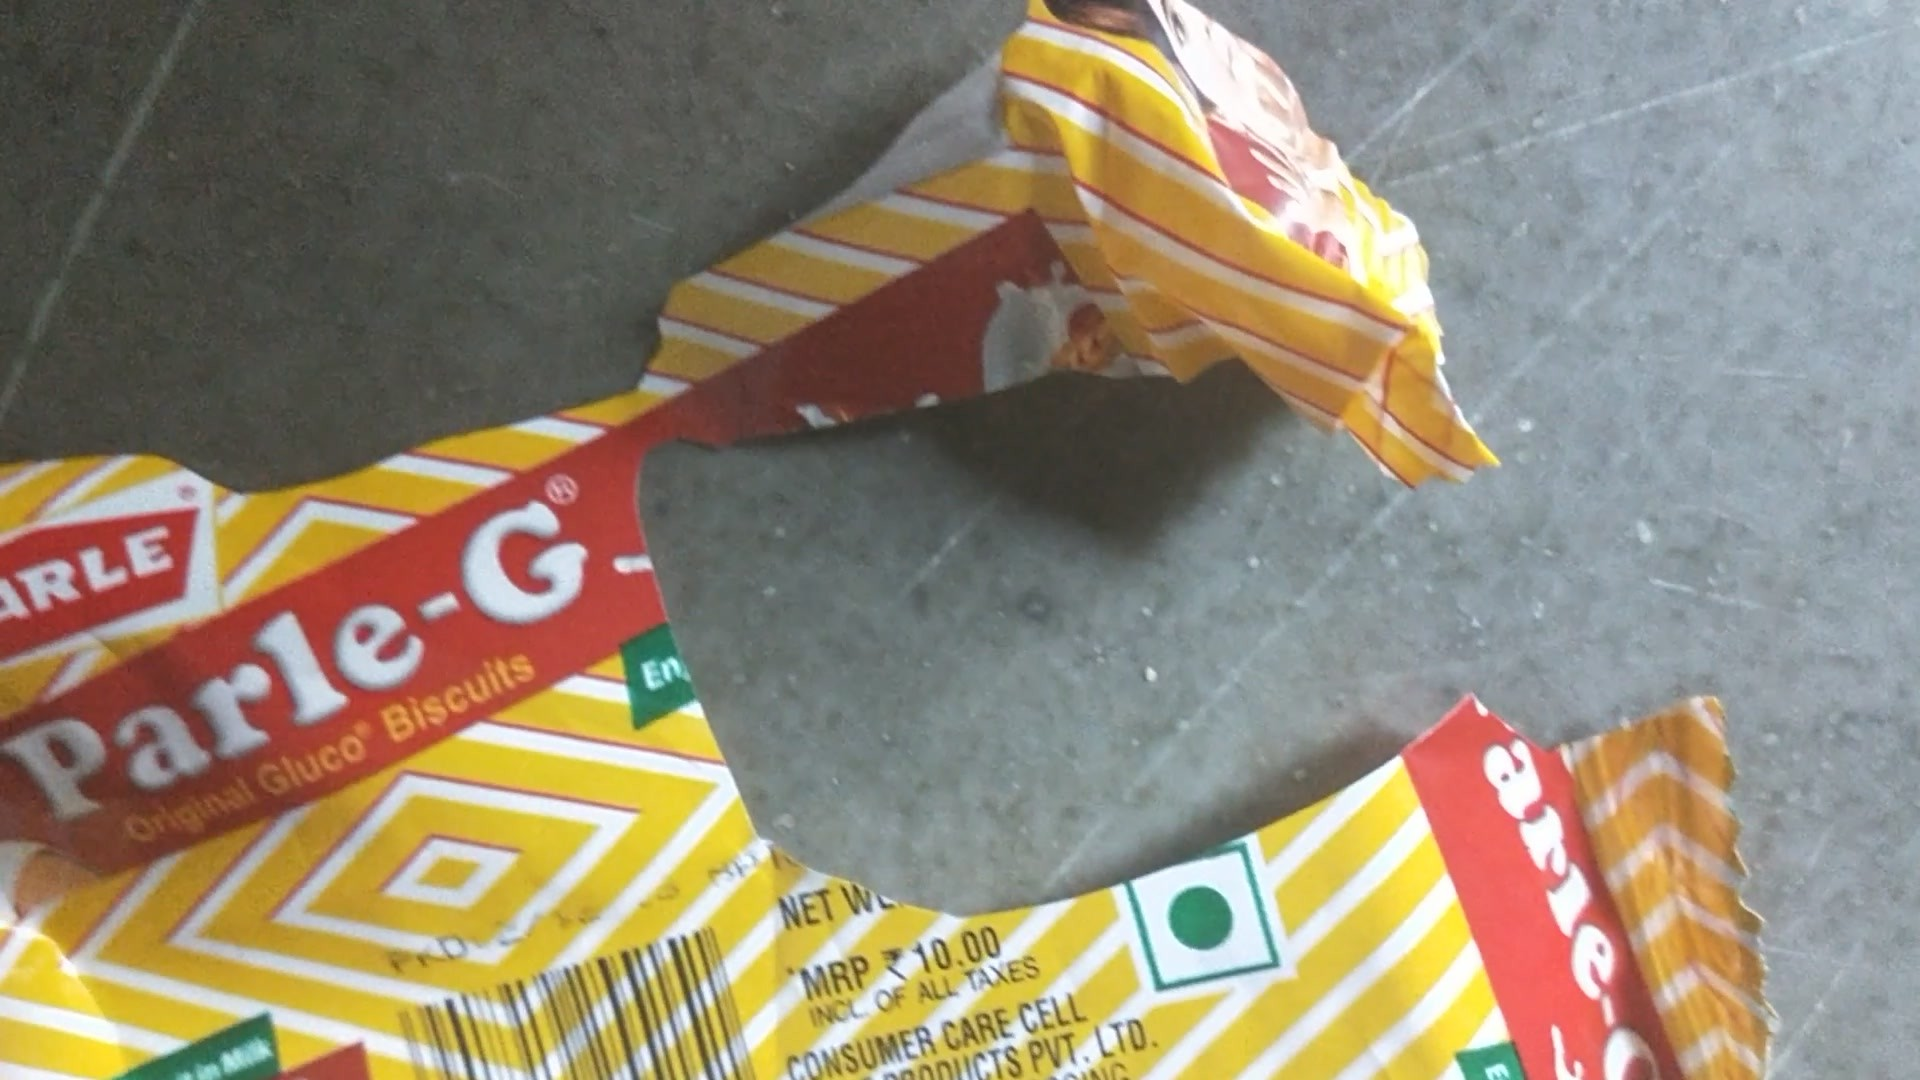parle-g-b: (3, 477, 1687, 1080)
